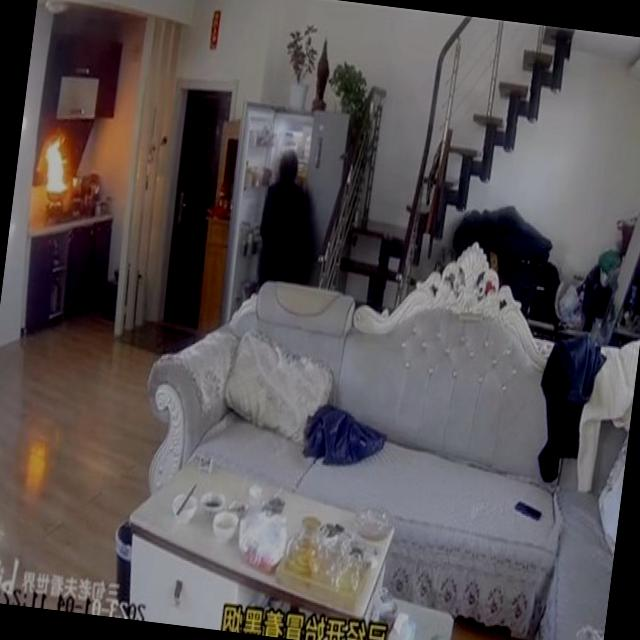fire: (23, 120, 86, 220)
